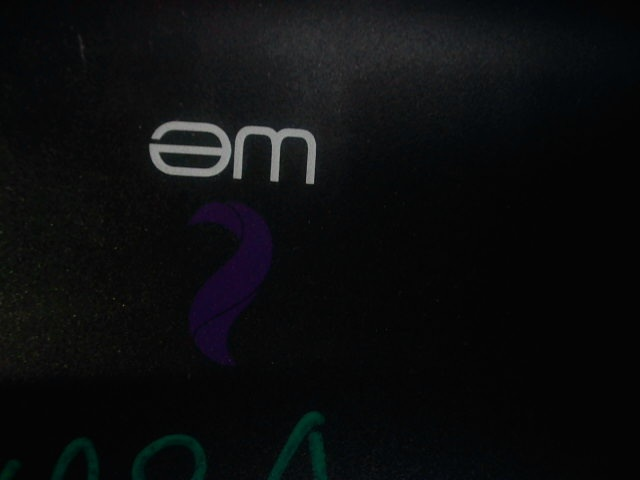AT_We: (130, 115, 334, 370)
